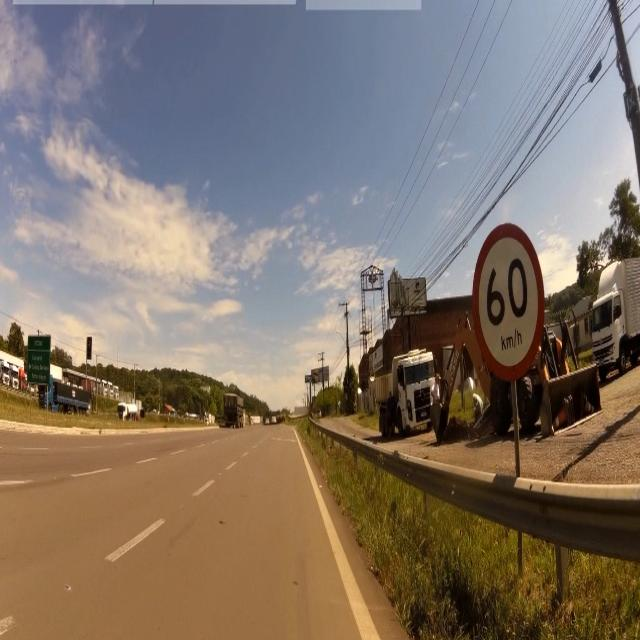R-19: (474, 220, 544, 388)
